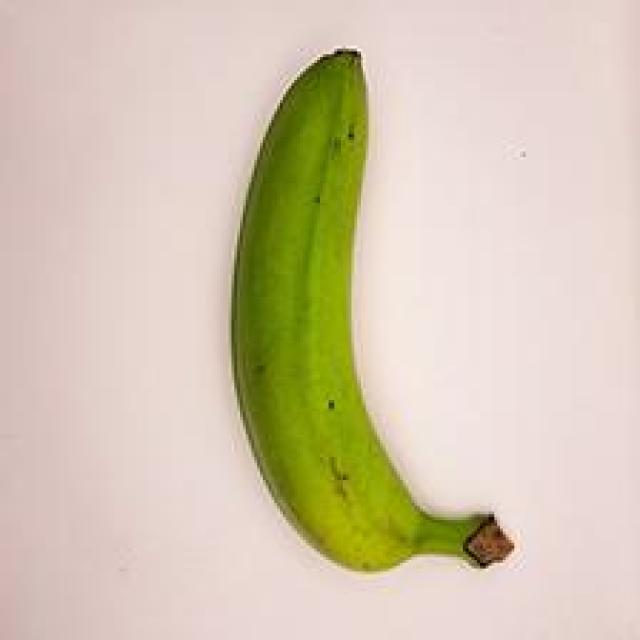unripe: (143, 38, 552, 589)
